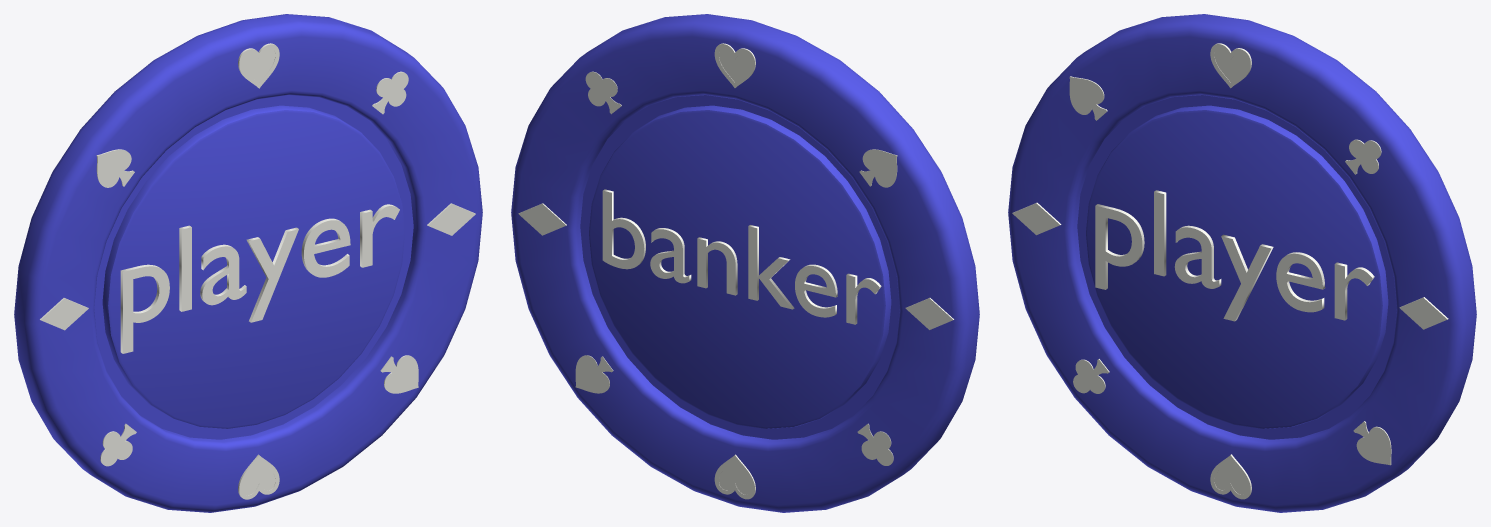
File: Coin.gltf
3 renders of one model, left to right at view 1: azimuth 30°, elevation 25°; view 2: azimuth 150°, elevation 25°; view 3: azimuth 330°, elevation 25°, orthographic.
Parts seen in each view (by area): view 1: Coin, Icon; view 2: Coin, Icon; view 3: Coin, Icon.
Boxes of the visible parts, x1=… form: Coin: x1=14, y1=14, x2=482, y2=512; Icon: x1=40, y1=43, x2=475, y2=499; Coin: x1=511, y1=14, x2=979, y2=512; Icon: x1=518, y1=43, x2=953, y2=499; Coin: x1=1008, y1=14, x2=1476, y2=512; Icon: x1=1012, y1=43, x2=1448, y2=499.
Size of the model in its own units: 2 by 2 by 0.1705.
